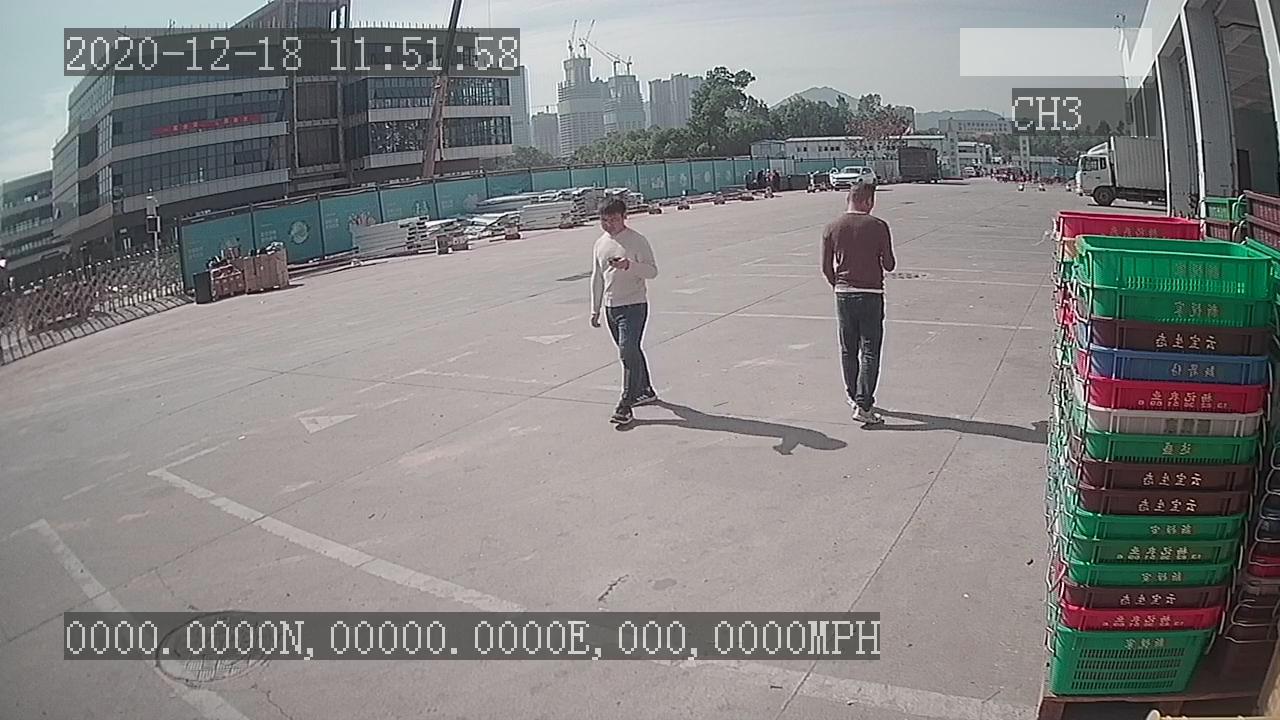person: (813, 176, 902, 433), (577, 194, 670, 431)
